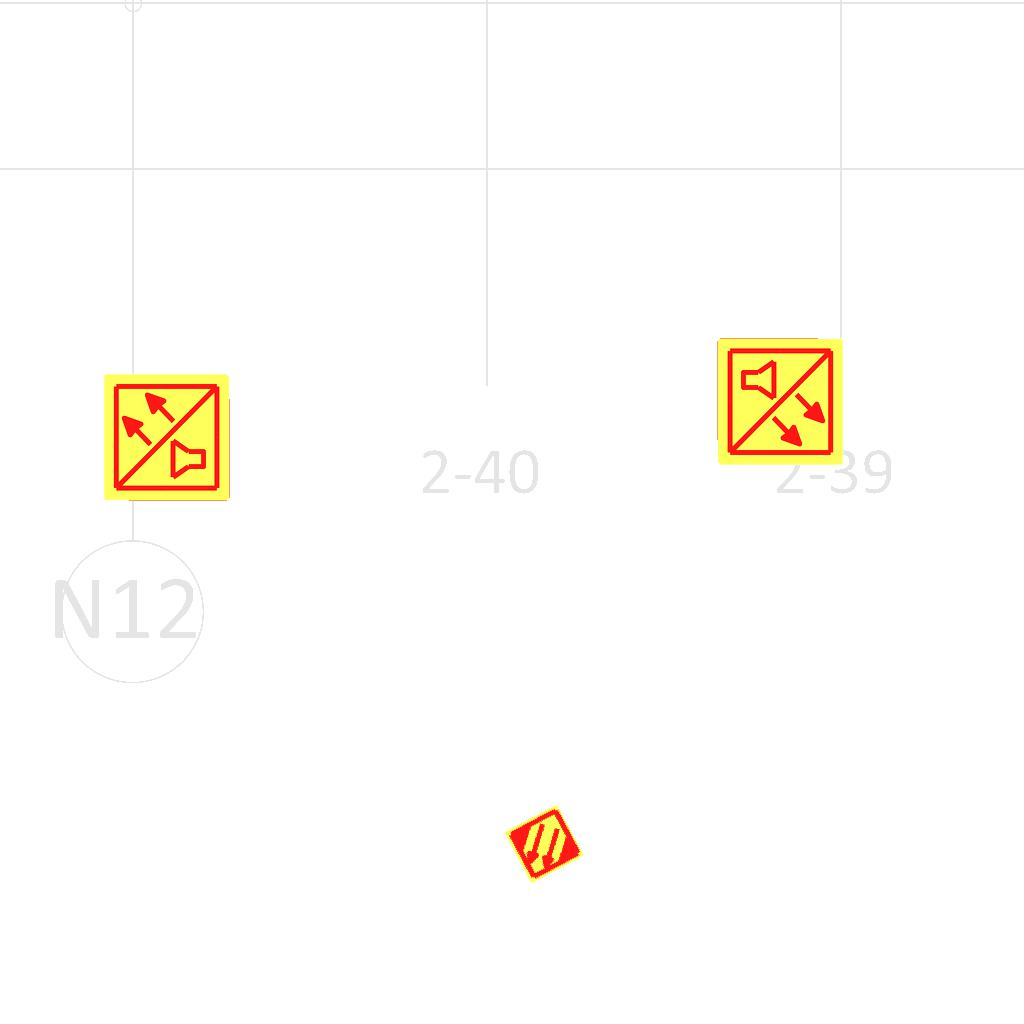ASR_Ansaugrauchmelder: (502, 802, 586, 886)
OKW_Multisensormelder_(Kombination_optischer_Rauch-Kahlenmonoxid_Waerme-Melder): (714, 336, 846, 468), (101, 371, 233, 503)
